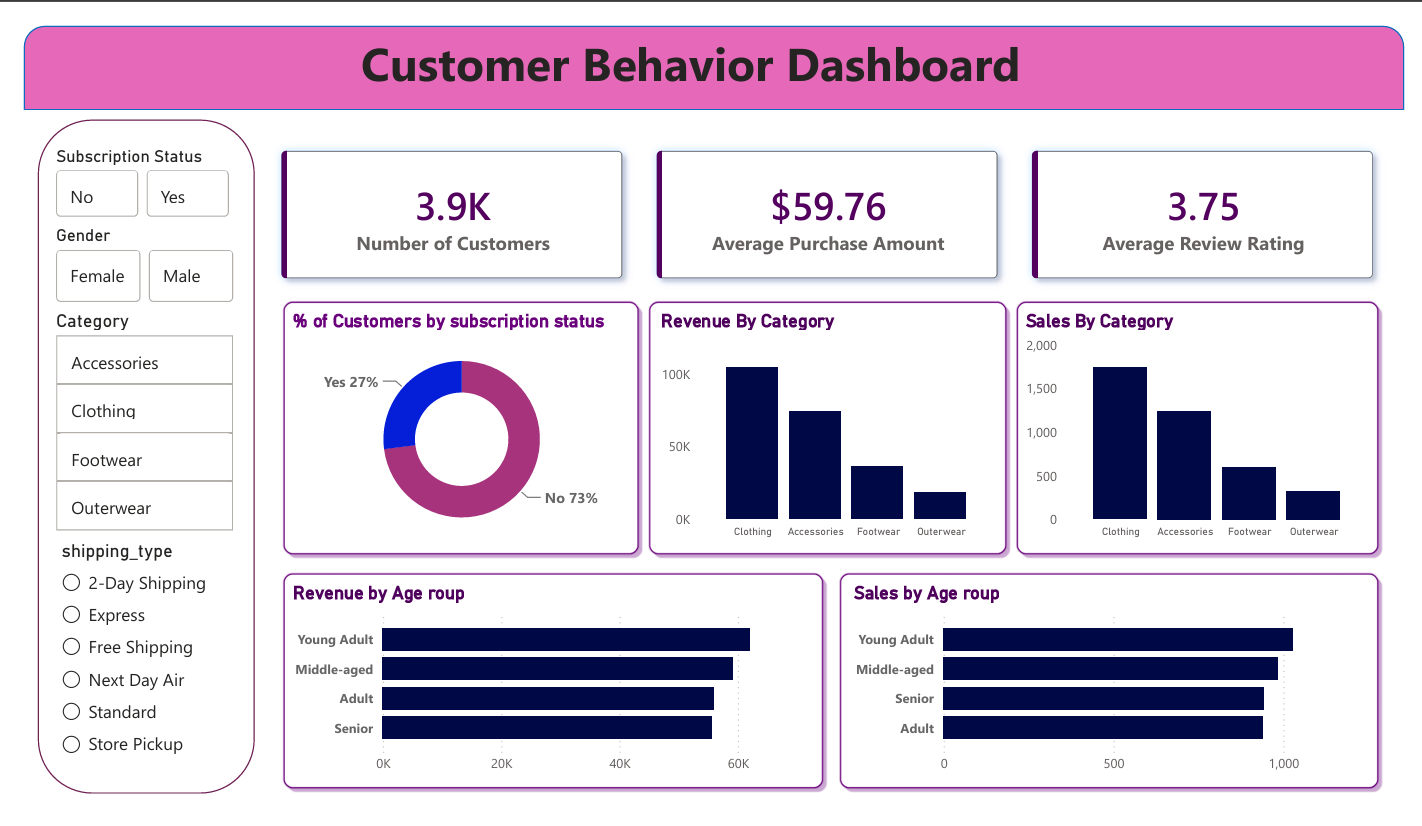

Layout of this report page (visuals, bound fields, positions):
{"tool":"powerbi","page":{"name":"Page 1","canvas":[1280,720],"ordinal":0},"visuals":[{"type":"cardVisual","fields":{"Data":["customer_behaviour_db customer.Number of Customers","customer_behaviour_db customer.Average Purchase Amount","customer_behaviour_db customer.Average Review Rating"]},"box":[209.9,86.9,1070.1,176.1],"z":0},{"type":"shape","box":[0,0,1280,78.4],"z":1000},{"type":"textbox","box":[253.4,0,731.1,111],"z":2000},{"type":"shape","box":[236.5,250.9,339,243.7],"z":3000},{"type":"donutChart","title":"% of Customers by subscription status","fields":{"Category":["customer_behaviour_db customer.subscription_status"],"Y":["CountNonNull(customer_behaviour_db customer.customer_id)"]},"box":[244.9,263,322.1,222],"z":4000},{"type":"shape","box":[915.7,250.9,345,243.7],"z":5000},{"type":"shape","box":[575.5,250.9,340.2,243.7],"z":6000},{"type":"clusteredColumnChart","title":"Revenue By Category","fields":{"Y":["Sum(customer_behaviour_db customer.purchase_amount)"],"Category":["customer_behaviour_db customer.category"]},"box":[586.3,263,317.3,222],"z":7000},{"type":"clusteredColumnChart","title":"Sales By Category","fields":{"Category":["customer_behaviour_db customer.category"],"Y":["CountNonNull(customer_behaviour_db customer.customer_id)"]},"box":[924.1,263,326.9,222],"z":8000},{"type":"shape","box":[13.3,86.9,200.3,624.9],"z":9000},{"type":"advancedSlicerVisual","title":"Subscription Status","fields":{"Values":["customer_behaviour_db customer.subscription_status"]},"box":[25.3,111,170.1,73.6],"z":10000},{"type":"advancedSlicerVisual","title":"Gender","fields":{"Values":["customer_behaviour_db customer.gender"]},"box":[25.3,184.6,174.9,78.4],"z":11000},{"type":"advancedSlicerVisual","title":"Category","fields":{"Values":["customer_behaviour_db customer.category"]},"box":[25.3,263,174.9,213.5],"z":12000},{"type":"listSlicer","fields":{"Values":["customer_behaviour_db customer.shipping_type"]},"box":[30.2,476.5,165.3,218.4],"z":13000},{"type":"shape","box":[236.5,503.1,509.1,208.7],"z":14000},{"type":"clusteredBarChart","title":"Revenue  by Age roup","fields":{"Category":["customer_behaviour_db customer.age_group"],"Y":["Sum(customer_behaviour_db customer.purchase_amount)"]},"box":[244.9,516.4,487.4,187],"z":15000},{"type":"shape","box":[751.6,503.1,509.1,208.7],"z":16000},{"type":"clusteredBarChart","title":"Sales  by Age roup","fields":{"Category":["customer_behaviour_db customer.age_group"],"Y":["CountNonNull(customer_behaviour_db customer.customer_id)"]},"box":[764.9,516.4,486.2,187],"z":17000}]}

Visuals, with their boxes on the page's 1280x720 design canvas (x1, y1, x2, y2). These are canvas units, not pixel positions in the 1422x826 screenshot, which may show the page scaled, cropped or inside an application window:
cardVisual - customer_behaviour_db customer.Number of Customers x customer_behaviour_db customer.Average Purchase Amount: rect(210, 87, 1280, 263)
shape: rect(0, 0, 1280, 78)
textbox: rect(253, 0, 984, 111)
shape: rect(236, 251, 576, 495)
"% of Customers by subscription status" donutChart: rect(245, 263, 567, 485)
shape: rect(916, 251, 1261, 495)
shape: rect(576, 251, 916, 495)
"Revenue By Category" clusteredColumnChart: rect(586, 263, 904, 485)
"Sales By Category" clusteredColumnChart: rect(924, 263, 1251, 485)
shape: rect(13, 87, 214, 712)
"Subscription Status" advancedSlicerVisual: rect(25, 111, 195, 185)
"Gender" advancedSlicerVisual: rect(25, 185, 200, 263)
"Category" advancedSlicerVisual: rect(25, 263, 200, 476)
listSlicer - customer_behaviour_db customer.shipping_type: rect(30, 476, 196, 695)
shape: rect(236, 503, 746, 712)
"Revenue  by Age roup" clusteredBarChart: rect(245, 516, 732, 703)
shape: rect(752, 503, 1261, 712)
"Sales  by Age roup" clusteredBarChart: rect(765, 516, 1251, 703)
